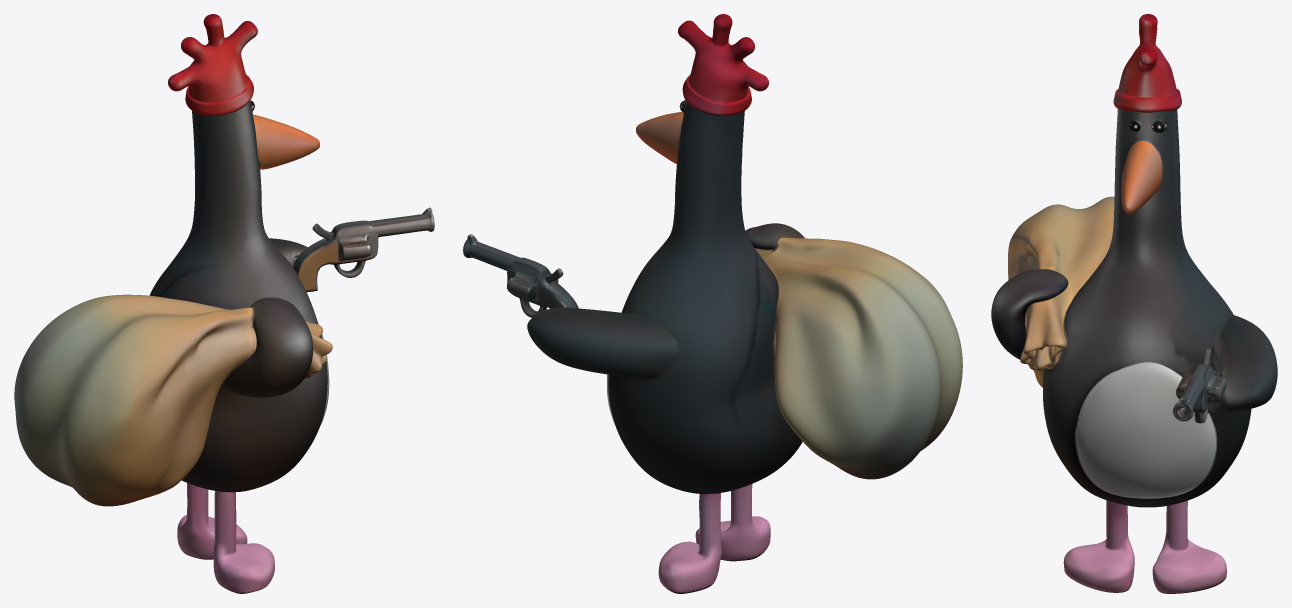
The model's file is cartoon-chicken-textured.glb.
The picture shows the model from 3 angles, left to right: view 1: azimuth 30°, elevation 25°; view 2: azimuth 150°, elevation 25°; view 3: azimuth 270°, elevation 25°; orthographic projection.
Parts seen in each view (by area): view 1: tripo_node_2bf6ca35-1dc2-4983-96c3-c2b86e313ae4; view 2: tripo_node_2bf6ca35-1dc2-4983-96c3-c2b86e313ae4; view 3: tripo_node_2bf6ca35-1dc2-4983-96c3-c2b86e313ae4.
Part boxes in pixels (left/top/right/bottom): tripo_node_2bf6ca35-1dc2-4983-96c3-c2b86e313ae4: left=14, top=14, right=434, bottom=593; tripo_node_2bf6ca35-1dc2-4983-96c3-c2b86e313ae4: left=463, top=14, right=962, bottom=593; tripo_node_2bf6ca35-1dc2-4983-96c3-c2b86e313ae4: left=991, top=14, right=1277, bottom=593.
Bounding box in the file's own units: 0.8138 × 0.9785 × 0.4523.
Materials: 1 (1 with a texture image).
